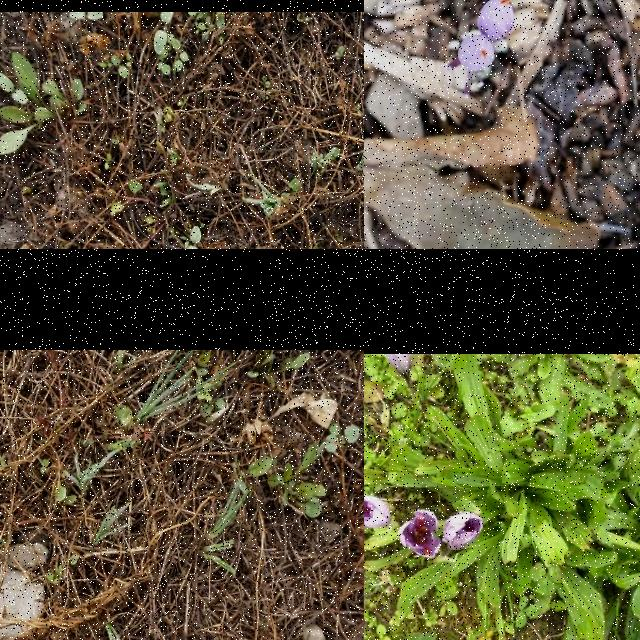flower: (400, 511, 442, 559), (442, 512, 482, 552), (477, 0, 514, 41), (458, 36, 496, 72), (364, 495, 391, 530)
